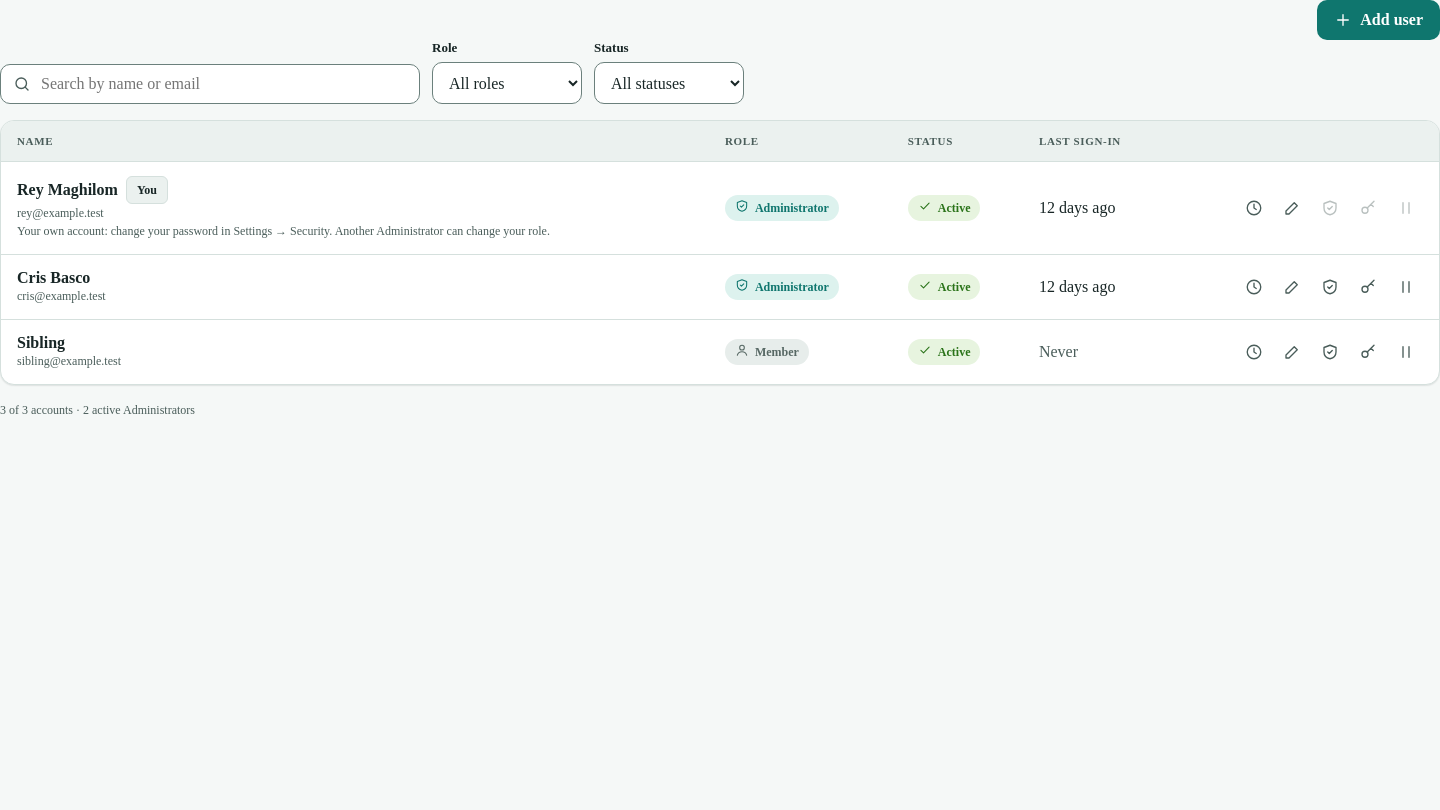
Test: Manage Users RBAC-2 UI › confirms an Administrator action and loads authorized account activity
Check: the table named "Accounts" is shown, box [1, 121, 1439, 384]
Step 1. Click the button named "Deactivate Sibling" → x=1406, y=352, box [1389, 335, 1423, 369]
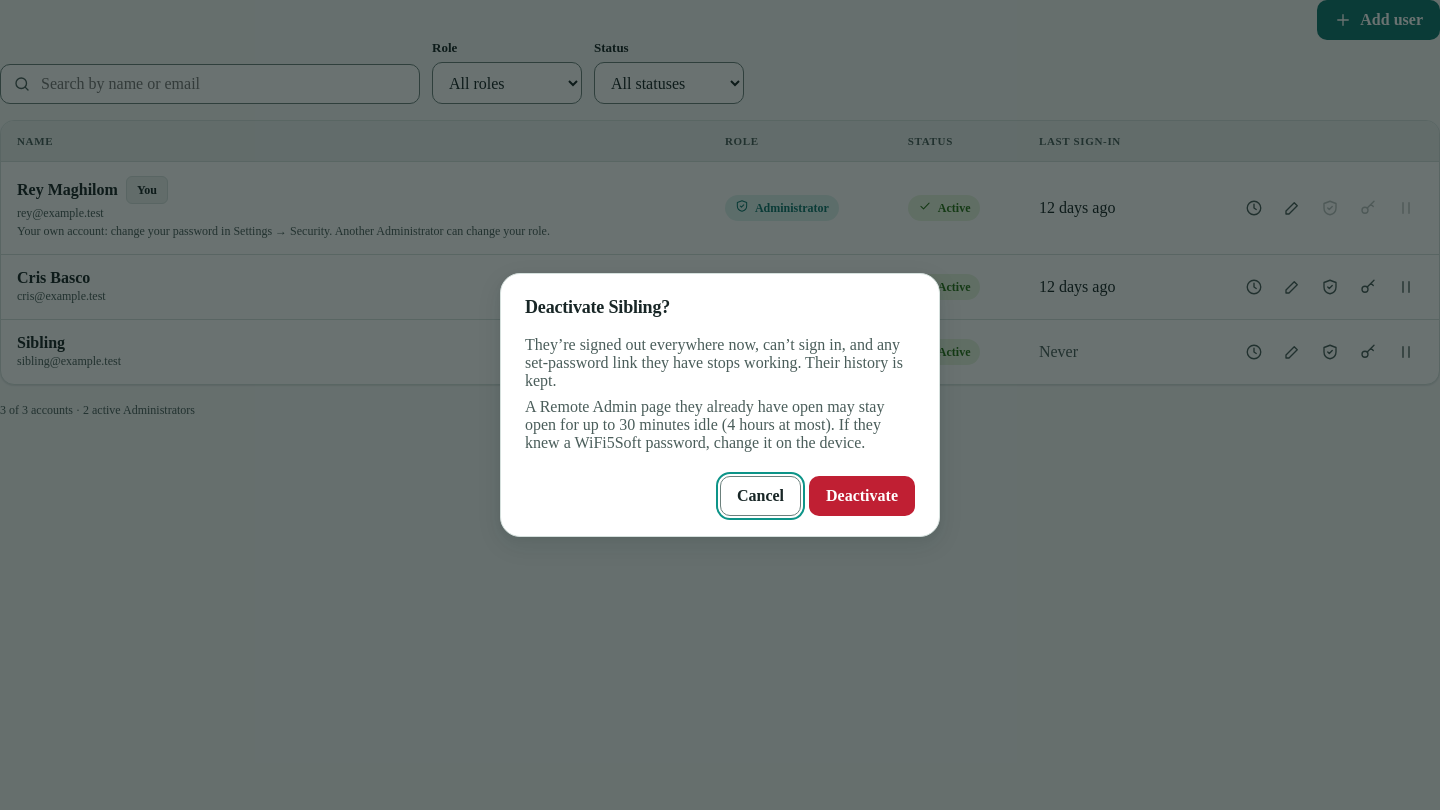
Step 2. Click the button "Deactivate" → x=862, y=496, box [809, 476, 915, 516]
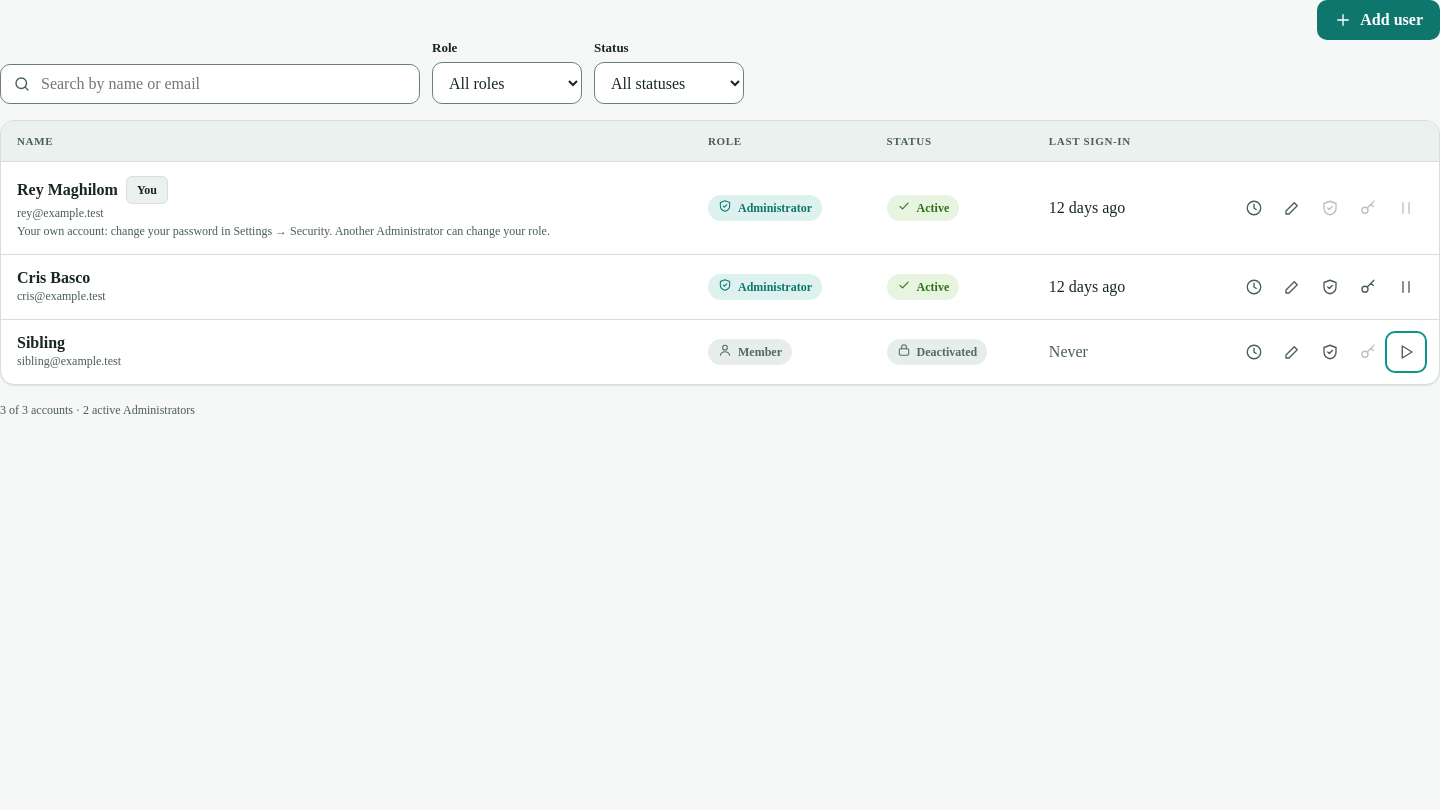
Step 3. Click the button named "Activity for Sibling" → x=1254, y=352, box [1237, 335, 1271, 369]
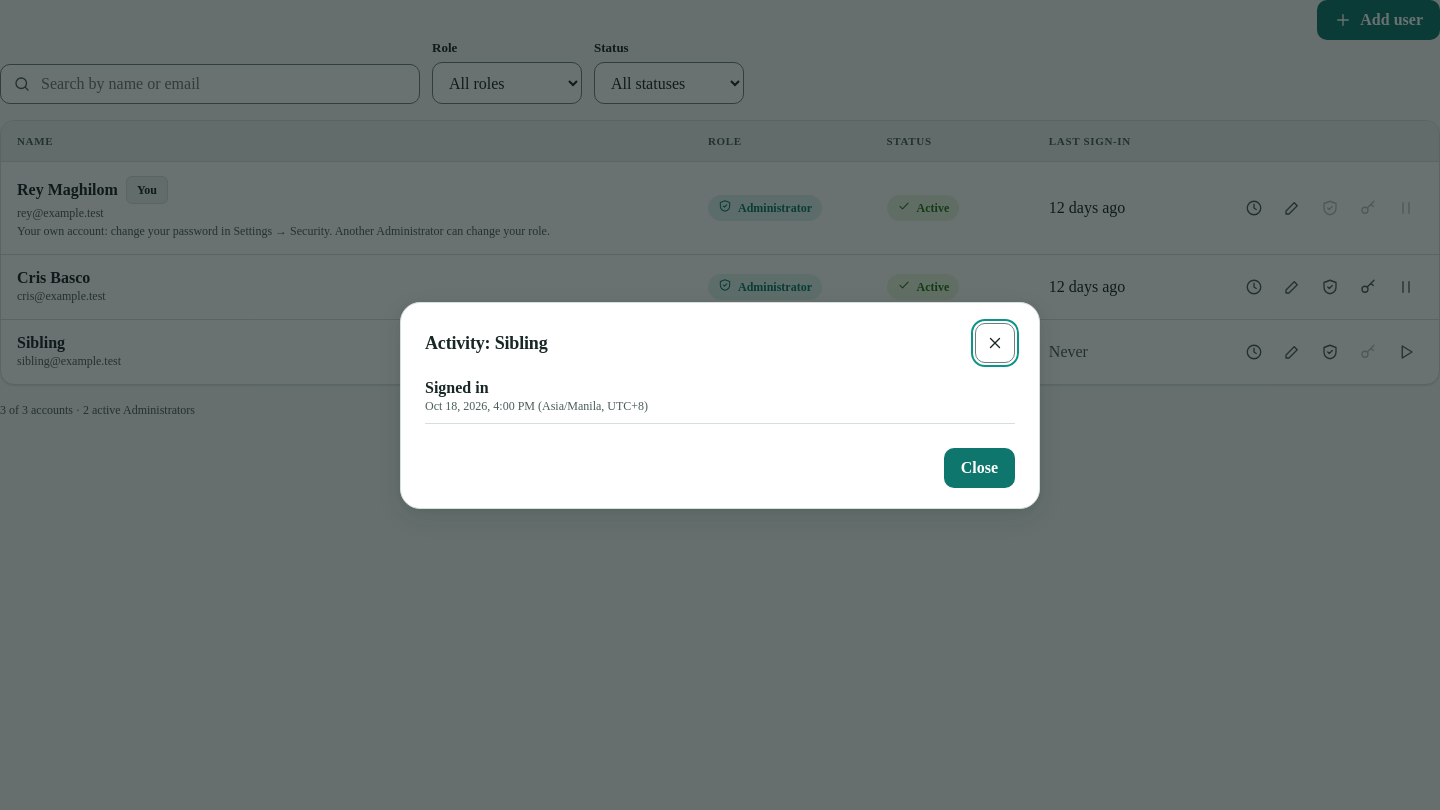
Check: the text "Signed in" is shown, box [425, 378, 489, 396]
